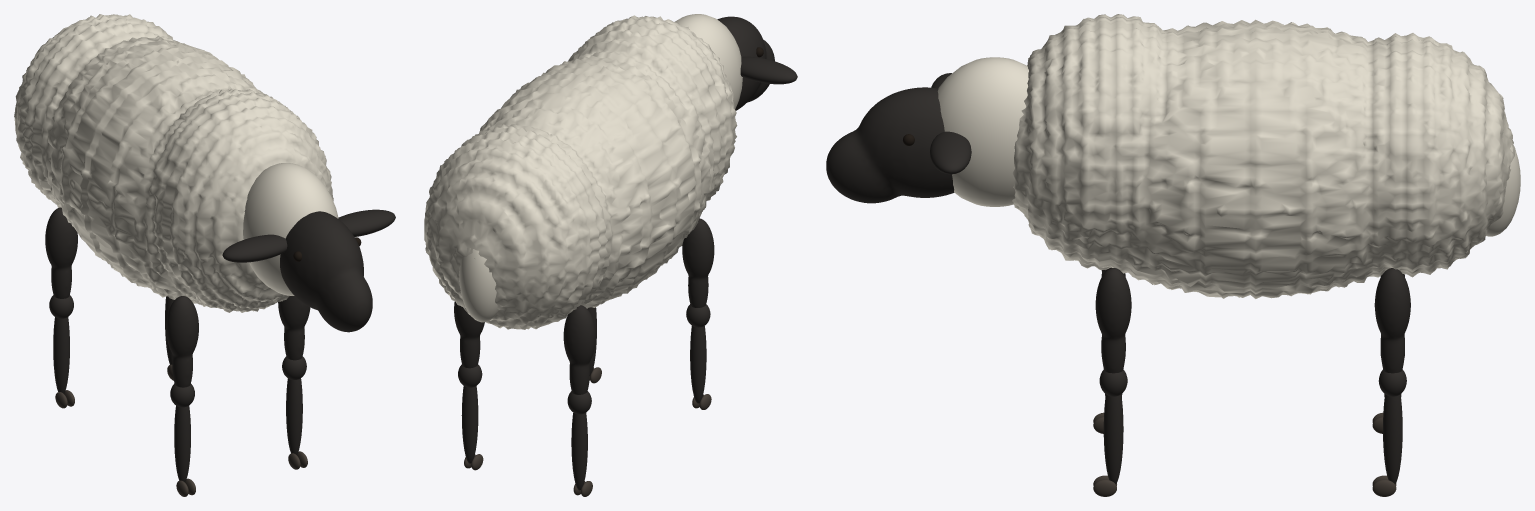
Rendered from sheep.glb.
3 renders of one model, left to right at view 1: azimuth 30°, elevation 25°; view 2: azimuth 150°, elevation 25°; view 3: azimuth 270°, elevation 25°, orthographic. The views are drawn at different scales.
Visible parts, largest first — view 1: Fleece, Skull, NeckCoat, UpperLeg, UpperLeg.002, UpperLeg.001, Ear, LowerLeg.001, LowerLeg.002, LowerLeg, Ear.001, KneeMuscle (+2 smaller); view 2: Fleece, UpperLeg.002, NeckCoat, TailWool, UpperLeg, Skull, UpperLeg.003, Ear, LowerLeg, LowerLeg.002, LowerLeg.003, KneeMuscle (+2 smaller); view 3: Fleece, Skull, NeckCoat, UpperLeg.001, UpperLeg.003, LowerLeg.001, LowerLeg.003, Ear.001, TailWool.
Boxes of the visible parts, x1,y1,x2,y2 form: Fleece: [14, 14, 333, 312]; Skull: [280, 211, 372, 332]; NeckCoat: [243, 163, 338, 295]; UpperLeg: [166, 296, 198, 387]; UpperLeg.002: [45, 207, 77, 298]; UpperLeg.001: [278, 296, 310, 360]; Ear: [222, 234, 287, 262]; LowerLeg.001: [286, 378, 302, 454]; LowerLeg.002: [53, 317, 69, 393]; LowerLeg: [174, 405, 190, 482]; Ear.001: [338, 209, 395, 236]; KneeMuscle: [170, 383, 194, 407]; Fleece: [424, 15, 737, 329]; UpperLeg.002: [563, 305, 595, 394]; NeckCoat: [675, 14, 742, 109]; TailWool: [459, 247, 498, 322]; UpperLeg: [682, 218, 714, 307]; Skull: [717, 16, 774, 110]; UpperLeg.003: [454, 301, 484, 368]; Ear: [740, 56, 797, 84]; LowerLeg: [690, 326, 706, 403]; LowerLeg.002: [571, 413, 587, 490]; LowerLeg.003: [461, 386, 478, 463]; KneeMuscle: [686, 304, 710, 327]; Fleece: [1012, 14, 1515, 298]; Skull: [826, 87, 954, 203]; NeckCoat: [937, 57, 1028, 206]; UpperLeg.001: [1095, 268, 1131, 373]; UpperLeg.003: [1374, 268, 1410, 373]; LowerLeg.001: [1103, 394, 1123, 484]; LowerLeg.003: [1383, 394, 1402, 483]; Ear.001: [930, 131, 971, 174]; TailWool: [1486, 143, 1520, 236].
Size of the model in its own units: 0.5491 by 1.04 by 1.49.
